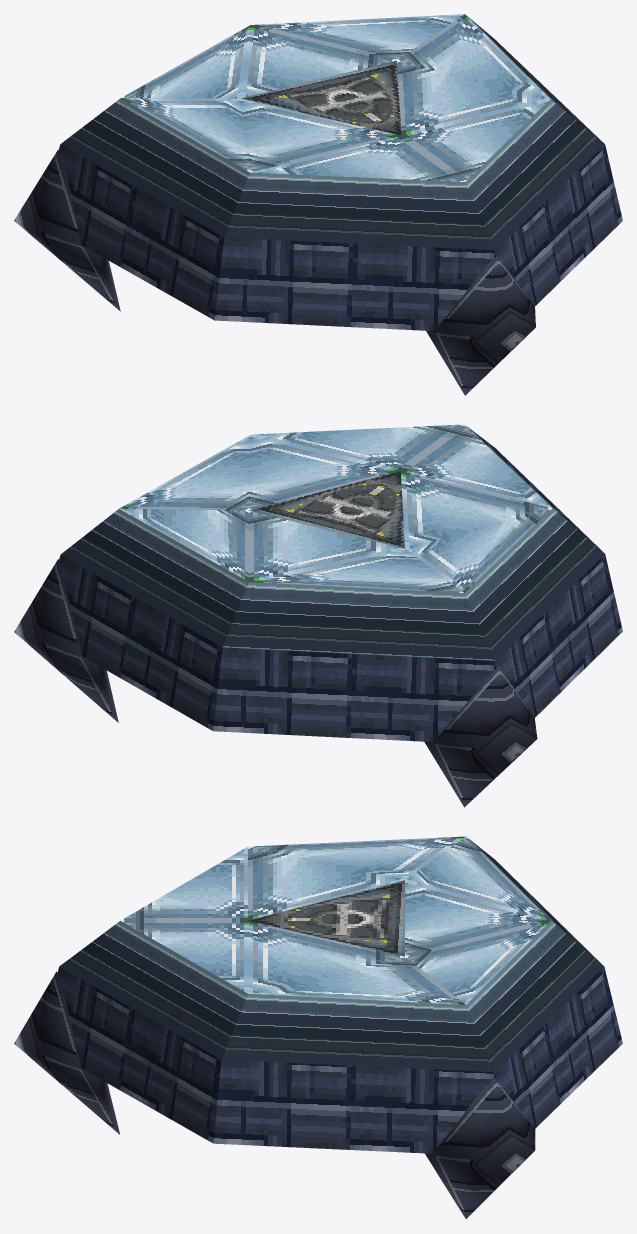
Rendered from 20-remote-mine-tp.glb.
The picture shows the model from 3 angles, top to bottom: view 1: azimuth 30°, elevation 25°; view 2: azimuth 150°, elevation 25°; view 3: azimuth 270°, elevation 25°; orthographic projection.
Parts seen in each view (by area): view 1: gun; view 2: gun; view 3: gun.
Boxes of the visible parts, x1,y1,x2,y2 form: gun: (14,14,622,395); gun: (14,424,622,807); gun: (14,836,622,1218).
Size of the model in its own units: 263 by 107 by 275.
5 materials, 5 textured.
